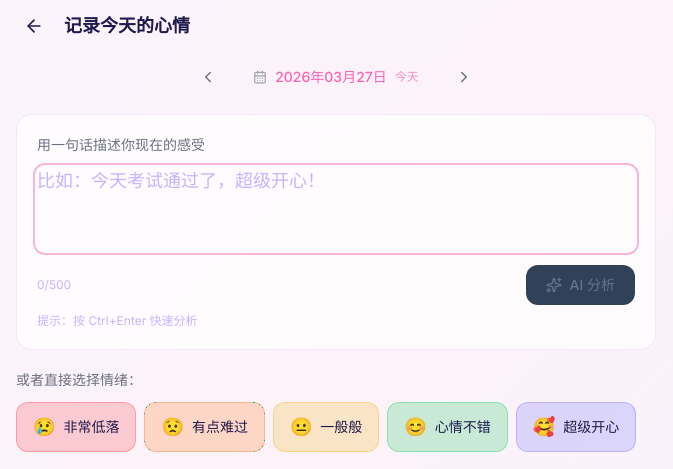
Test case: RecordPage › should update character count on input
This screenshot has width=673, height=469.
Type "测试" into the text box labelled "用一句话描述你现在的感受". click: (336,209)
box: [37,167,635,251]
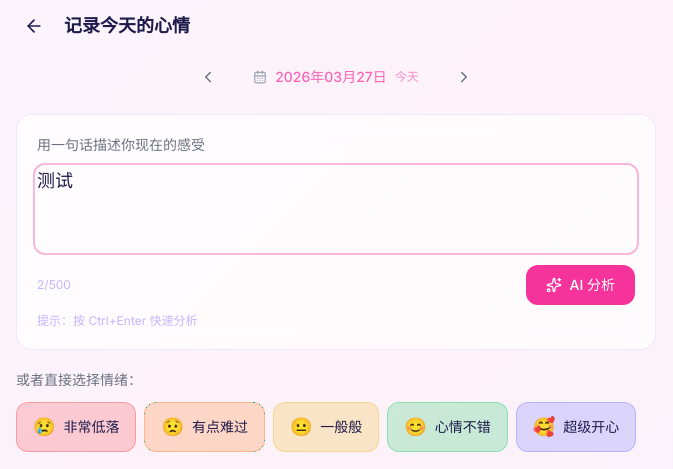
Expected: the text "2/500" is shown, [37,277,71,293]
